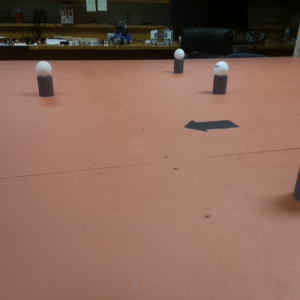obstacle: (36, 60, 54, 96), (214, 60, 229, 95), (174, 48, 183, 71)
